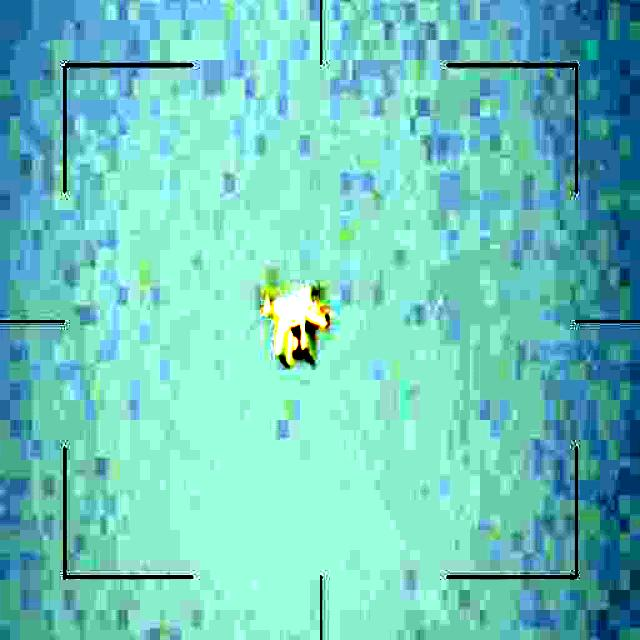bird: (250, 282, 324, 371)
